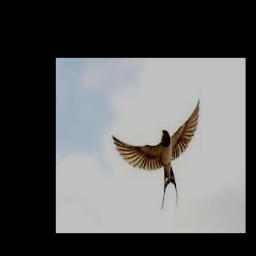Swallow: (113, 99, 200, 211)
